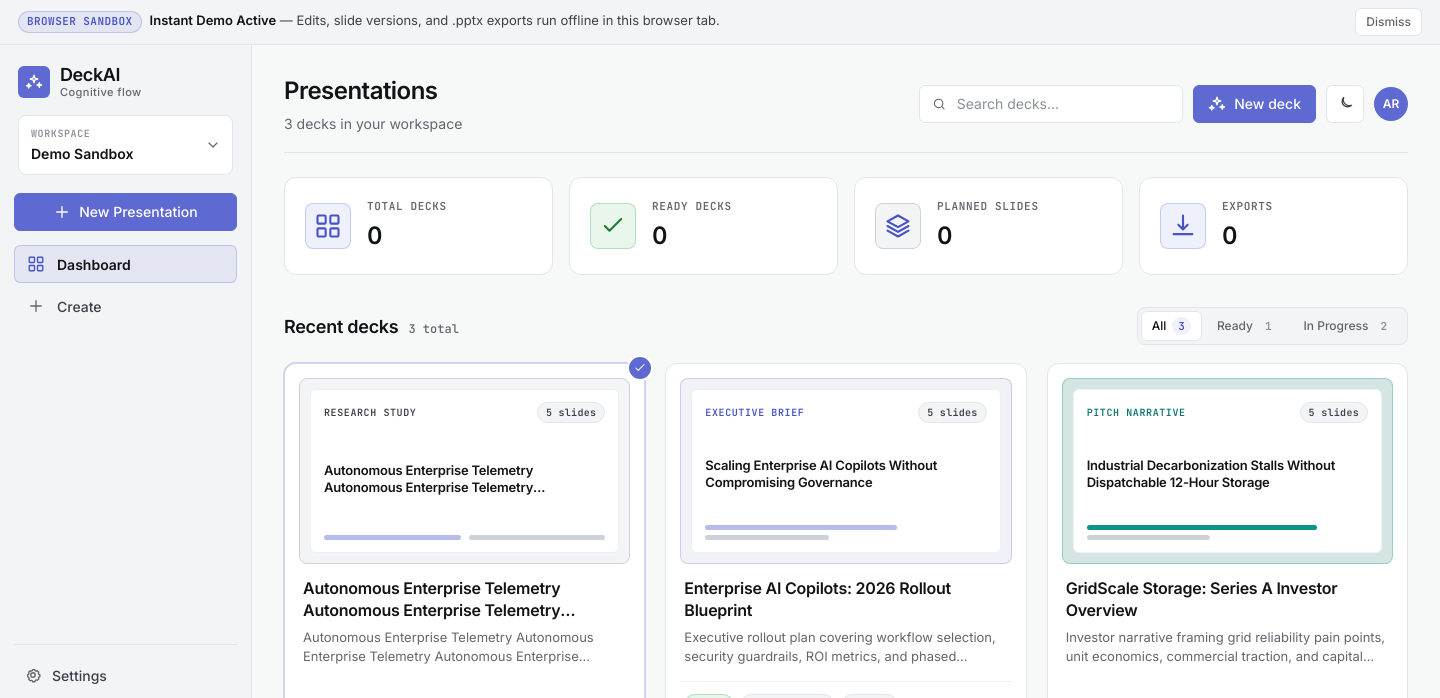
Scenario: DeckAI × Open Design UI Refactor › filters Dashboard decks by Ready / In Progress pills and renders 200-char titles safely in DeskCard mini-covers
The width and height of the screenshot is (1440, 698).
Check: the heading "Enterprise AI Copilots: 2026 Rollout Blueprint" is shown, box [684,578,951,620]
Check: the heading "GridScale Storage: Series A Investor Overview" is shown, box [1066,578,1337,620]
Click the button "Ready 1".
click(1247, 326)  # box [1206,311,1288,341]
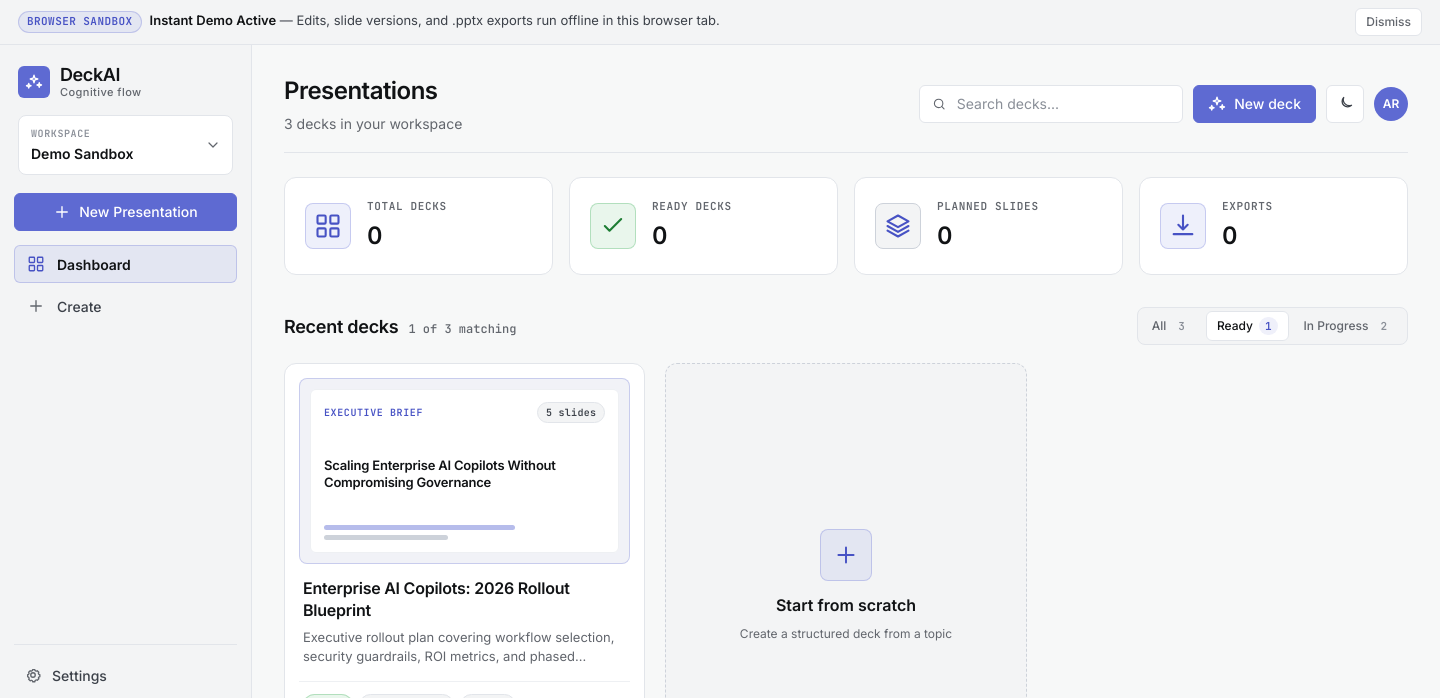
Check: the heading "Enterprise AI Copilots: 2026 Rollout Blueprint" is shown, box [303,578,570,620]
Check: the link "GridScale Storage: Series A Investor Overview" is gone
Click the button "In Progress 2".
click(1348, 326)  # box [1292,311,1404,341]
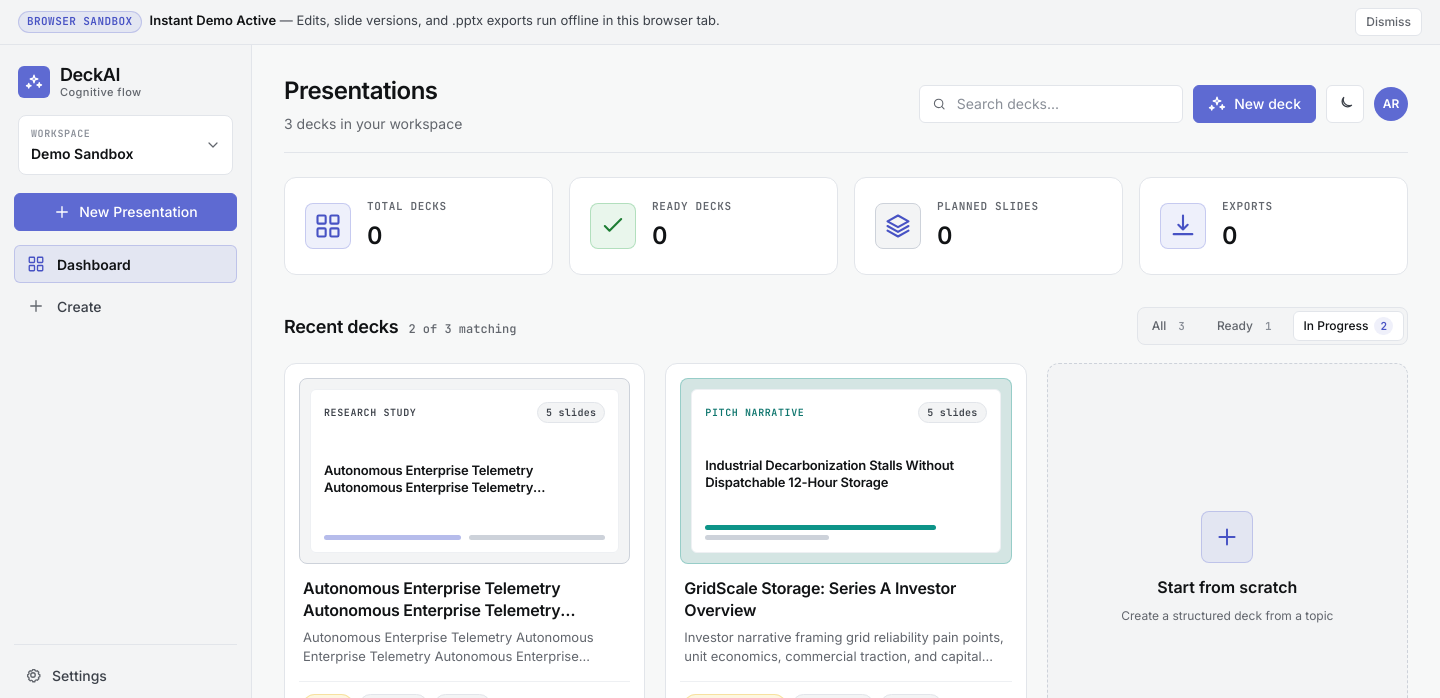
Check: the link "Enterprise AI Copilots: 2026 Rollout Blueprint" is gone
Check: the heading "GridScale Storage: Series A Investor Overview" is shown, box [684,578,956,620]
Click the button "All 3".
click(1171, 326)  # box [1141,311,1202,341]
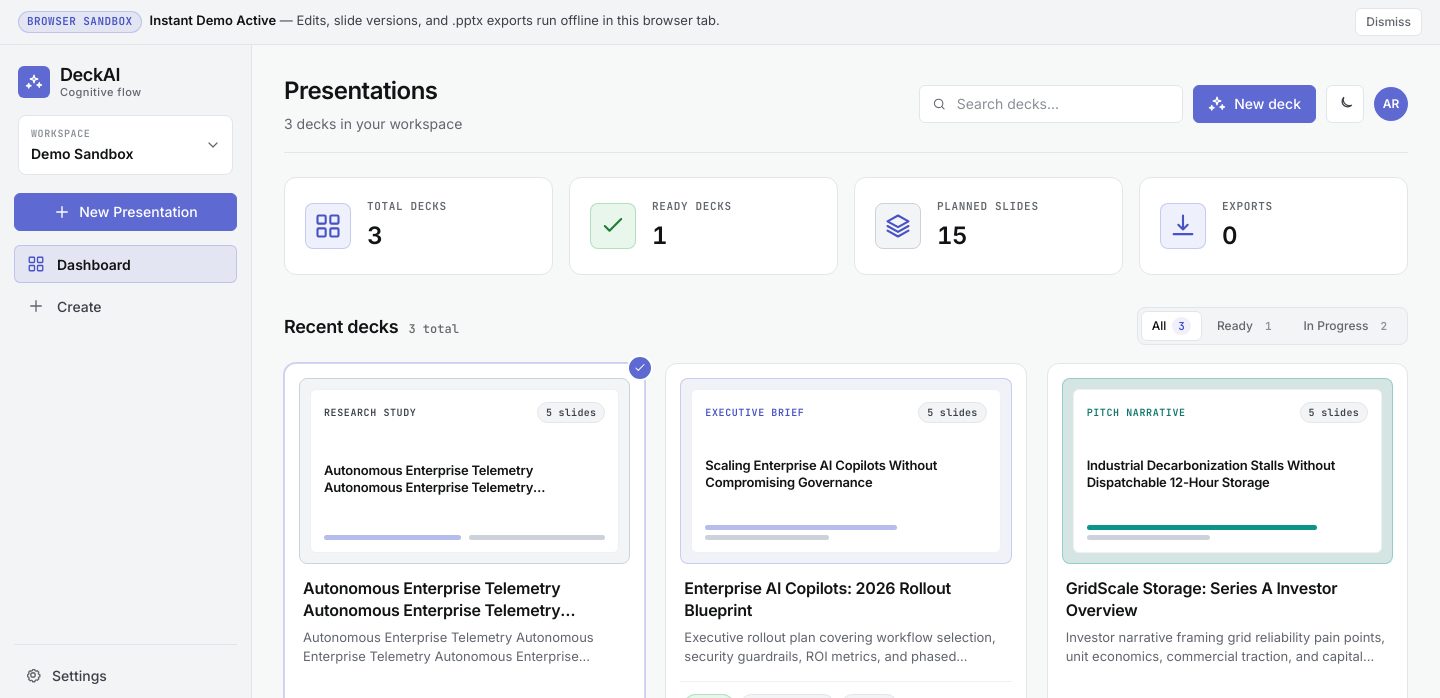
Check: the heading "GridScale Storage: Series A Investor Overview" is shown, box [1066,578,1337,620]
Check: the heading "Enterprise AI Copilots: 2026 Rollout Blueprint" is shown, box [684,578,951,620]
